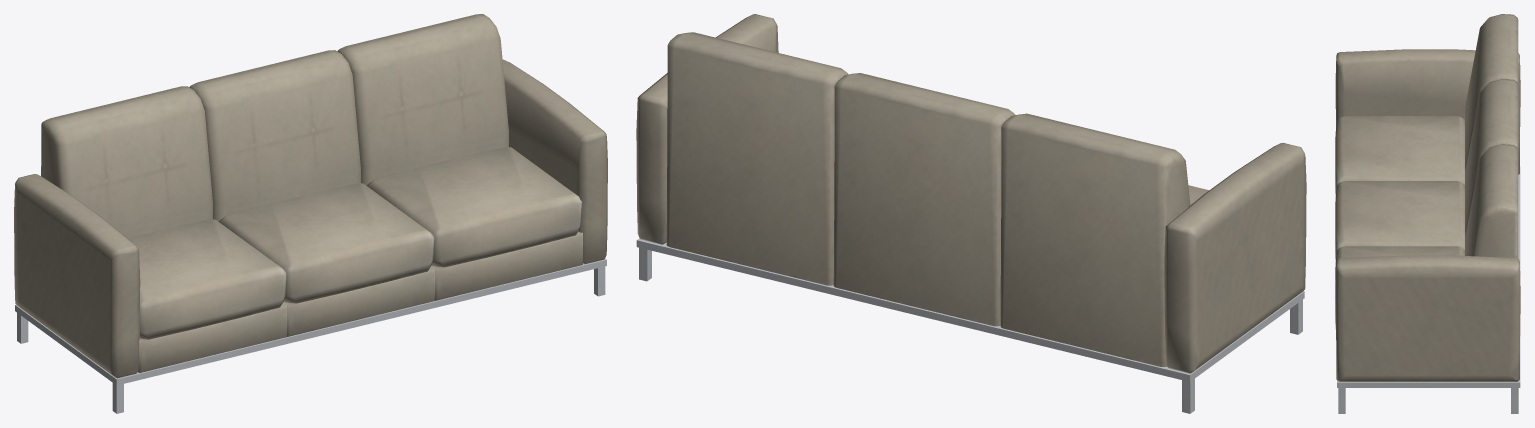
The model's file is Couch_Fabric_3seat.FBX.
3 renders of one model, left to right at view 1: azimuth 30°, elevation 25°; view 2: azimuth 150°, elevation 25°; view 3: azimuth 270°, elevation 25°, orthographic. The views are drawn at different scales.
Parts seen in each view (by area): view 1: Couch_Fabric_3seat; view 2: Couch_Fabric_3seat; view 3: Couch_Fabric_3seat.
Boxes of the visible parts, left/top/right/bottom form: Couch_Fabric_3seat: left=14, top=14, right=607, bottom=413; Couch_Fabric_3seat: left=636, top=14, right=1306, bottom=413; Couch_Fabric_3seat: left=1335, top=14, right=1520, bottom=413.
Bounding box in the file's own units: 225 × 94.95 × 80.8.
